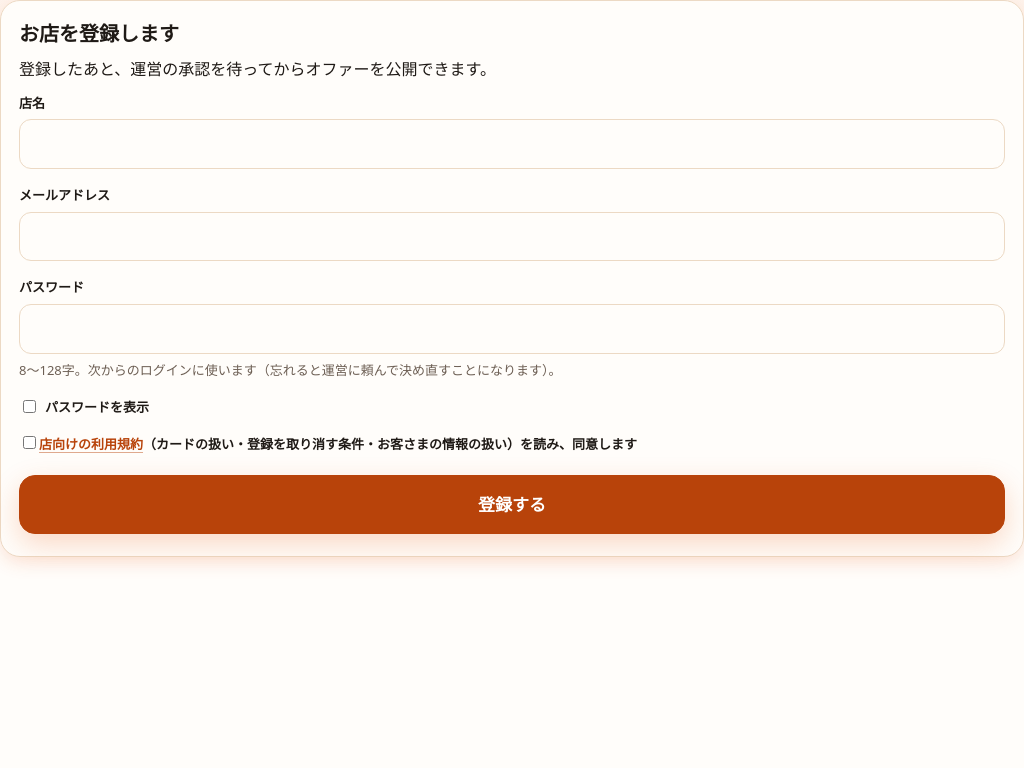
Test: 店の登録の断りの文 › 登録済みのメールアドレスでは、欄の直下に語の文が出る（理由の文ではない）
This screenshot has width=1024, height=768.
Type "検査の店" into the field with test id "field-name" at (512,144), box x1=19 y1=119 x2=1005 y2=169
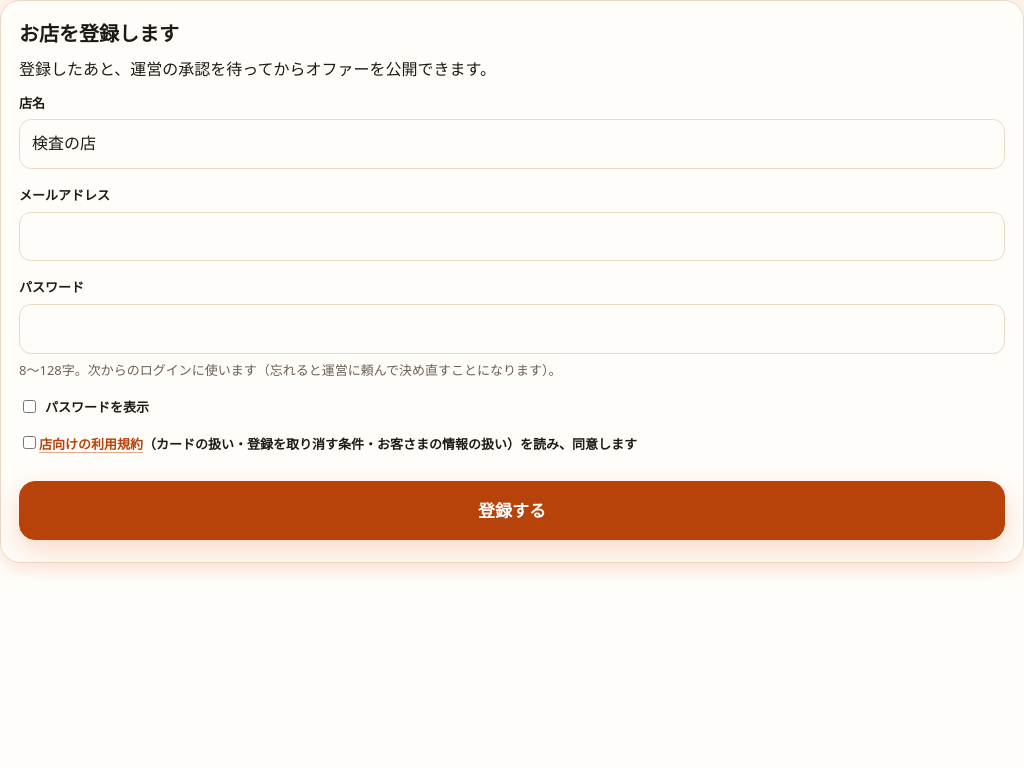
Type "dup@example.com" into the field with test id "field-email" at (512,237), box x1=19 y1=212 x2=1005 y2=261
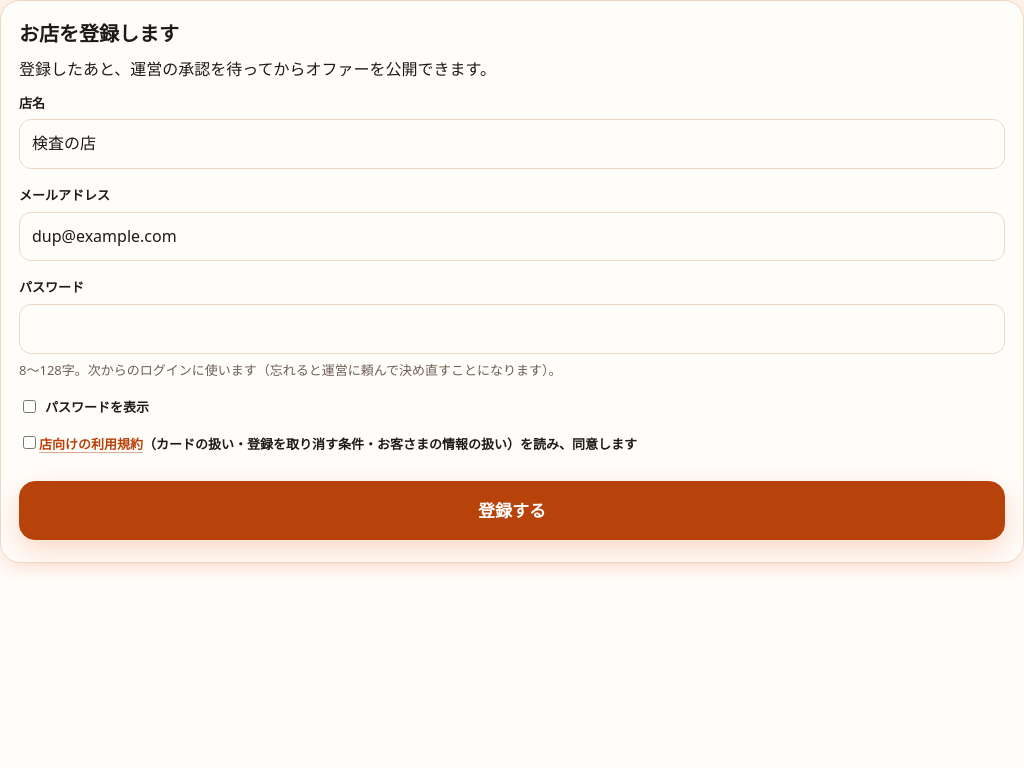
Type "store-pass-1234" into the password field with test id "field-password" at (512,329), box x1=19 y1=304 x2=1005 y2=354
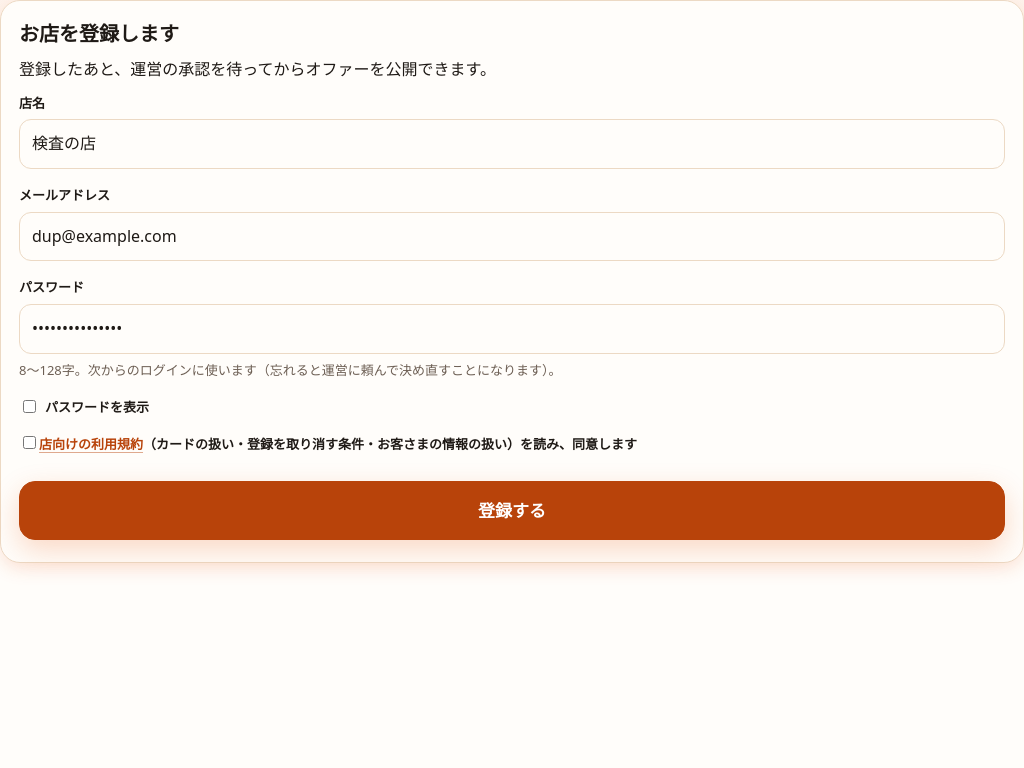
Click the checkbox with test id "field-agreeTerms" at (30,443), box x1=23 y1=436 x2=36 y2=449
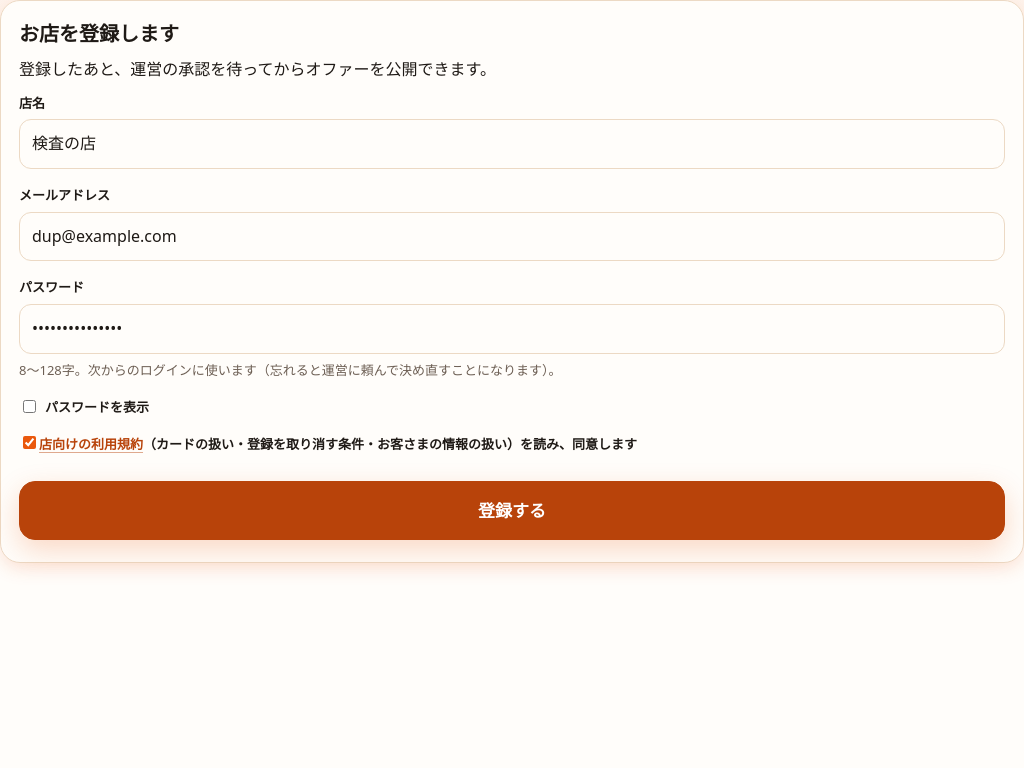
Click the button with test id "btn-register" at (512,511), box x1=19 y1=481 x2=1005 y2=540
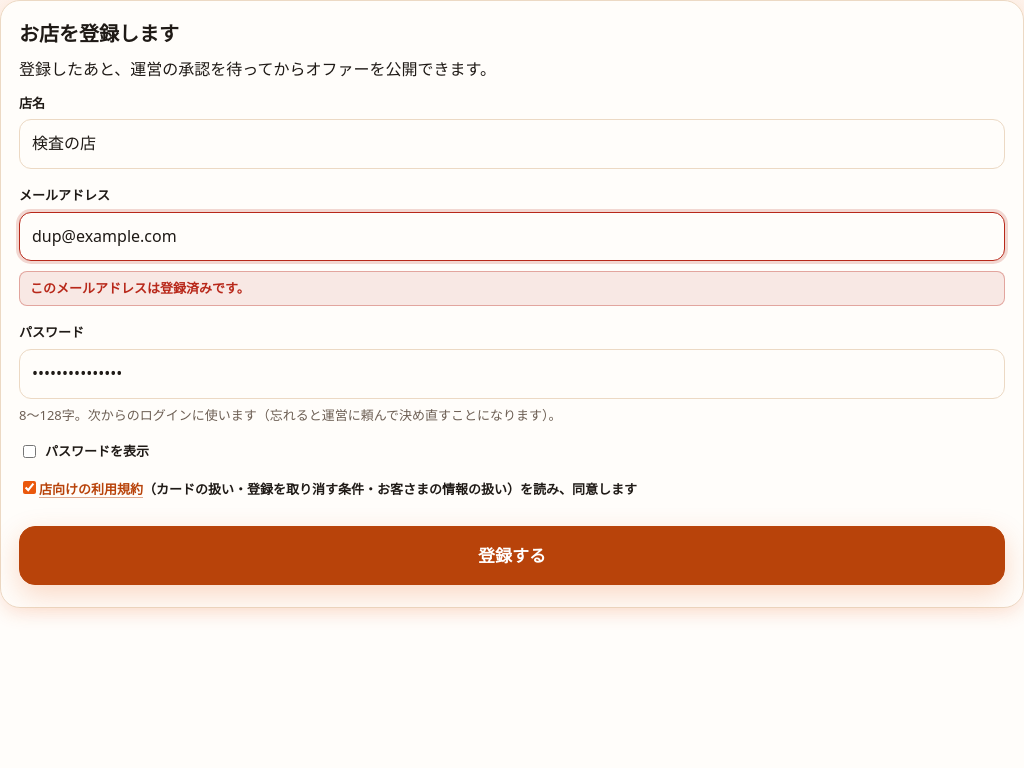
Result: the message with test id "msg-email" reads "このメールアドレスは登録済みです。" at x1=30 y1=279 x2=250 y2=297
